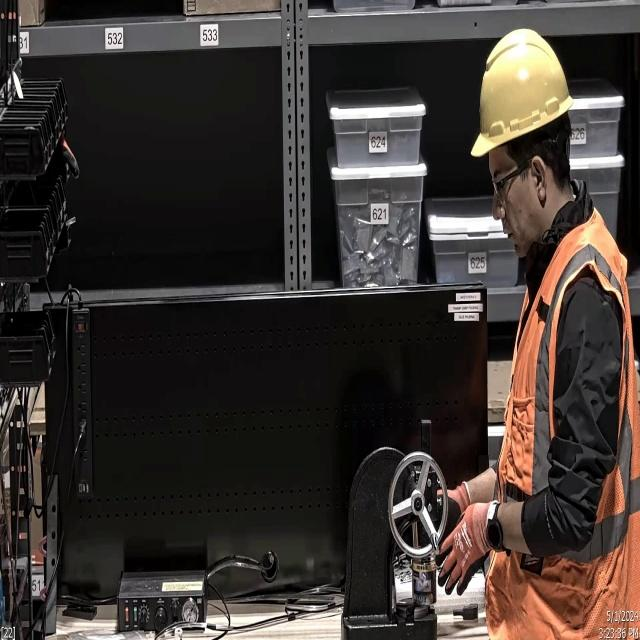gloves: (435, 502, 490, 596)
